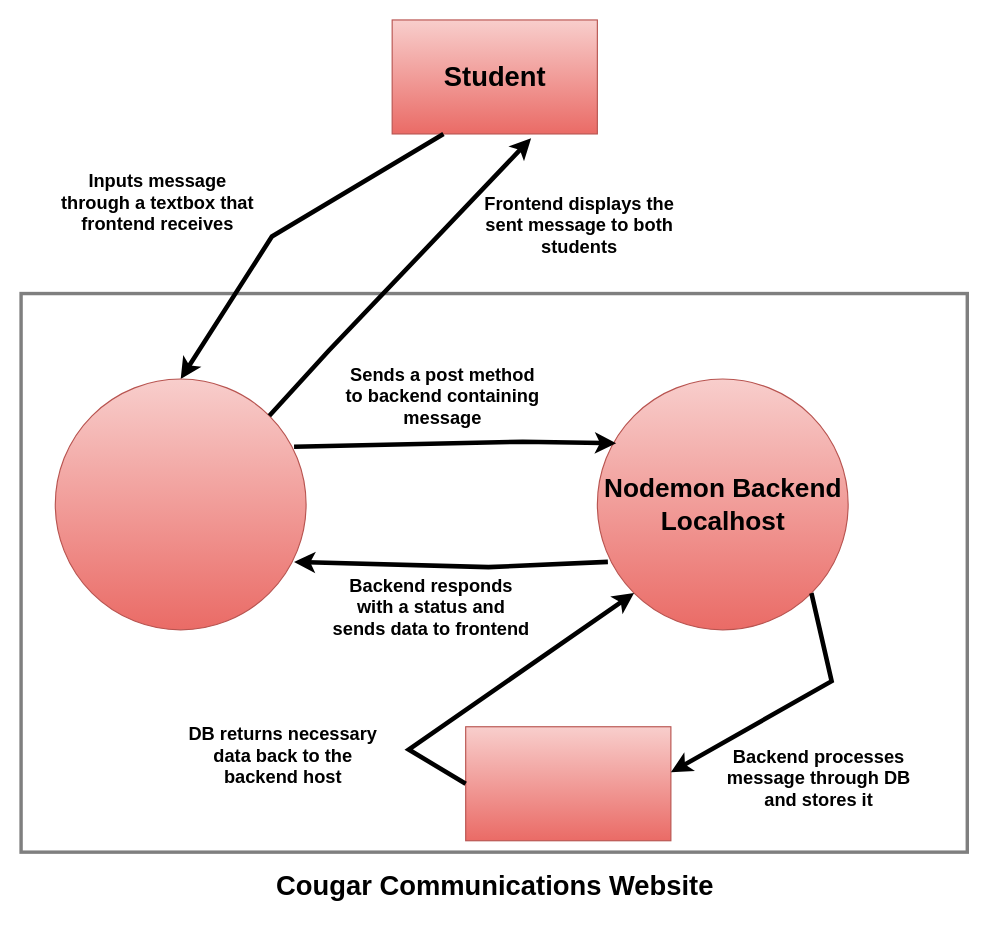
Image size: 988x941. Some labels were removed from this diagram. Here are the shapes that lost their labels. From the top down, the centre of each, then its label:
At (x=180, y=504): "VITE Frontend Localhost".
At (x=568, y=783): "Database".
